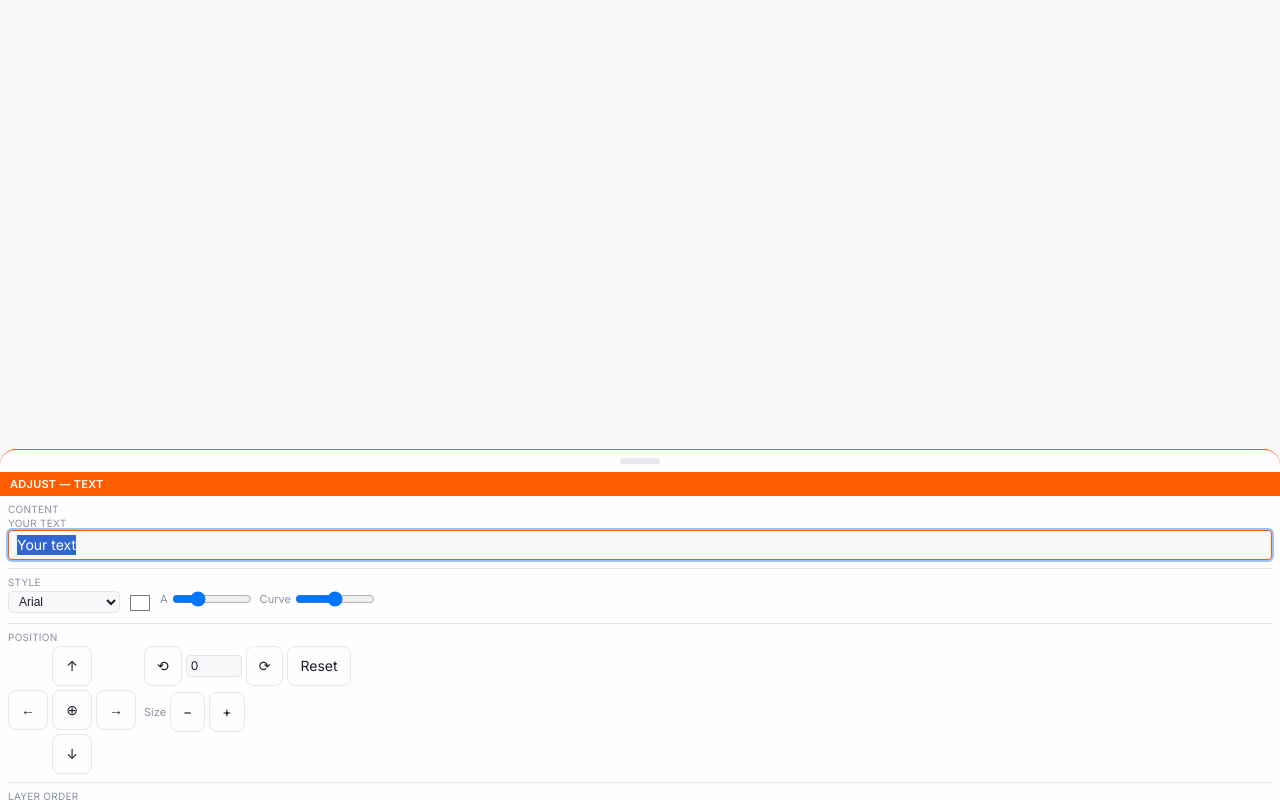
Scenario: mobile Adjust sheet › collapse / expand › a tap on the drag handle collapses the controls, WITHOUT deselecting
This screenshot has width=1280, height=800.
Click the button with test id "adjust-sheet-handle": point(640, 460) 0,450 -> 1279,472
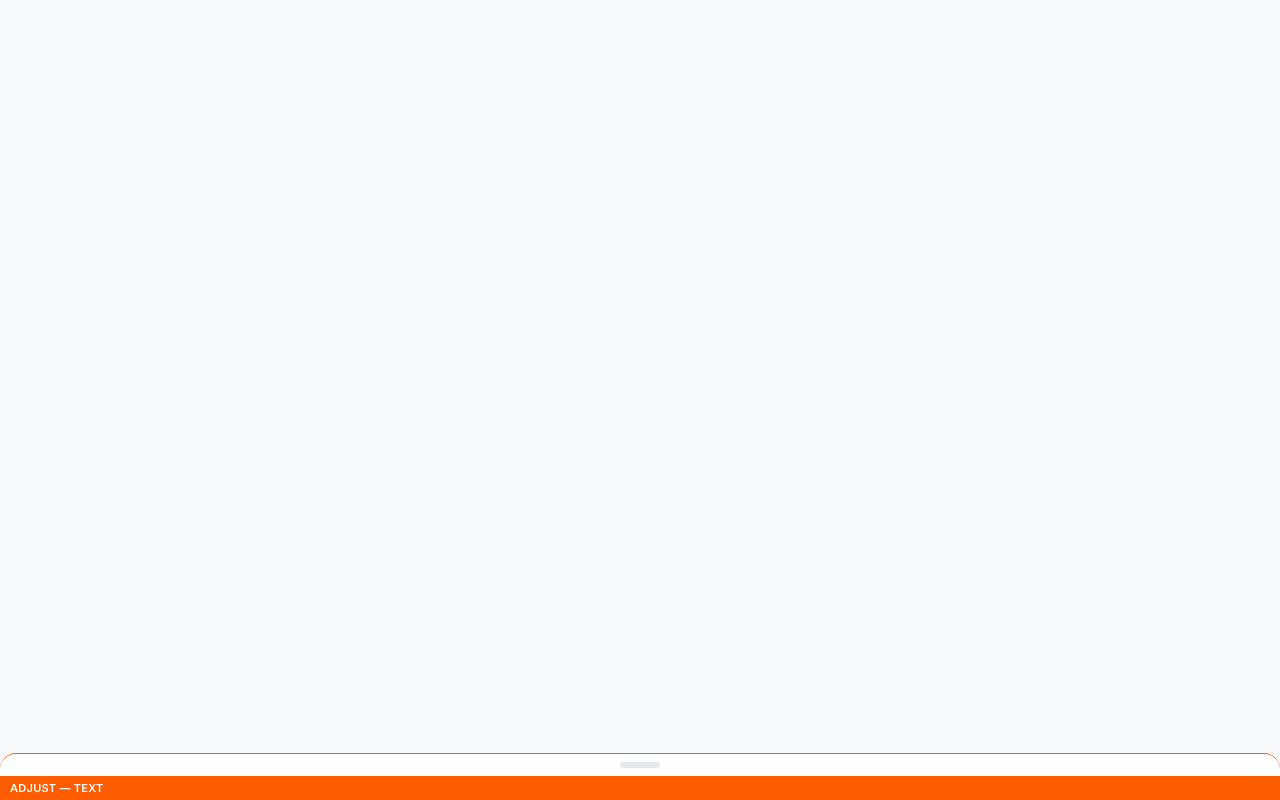
expect the element with test id "adjust-panel" is shown: met, box 0,752 -> 1279,799
expect the text "Position" is gone: met
expect the button with test id "adjust-sheet-handle" is collapsed: met, box 0,754 -> 1279,776
